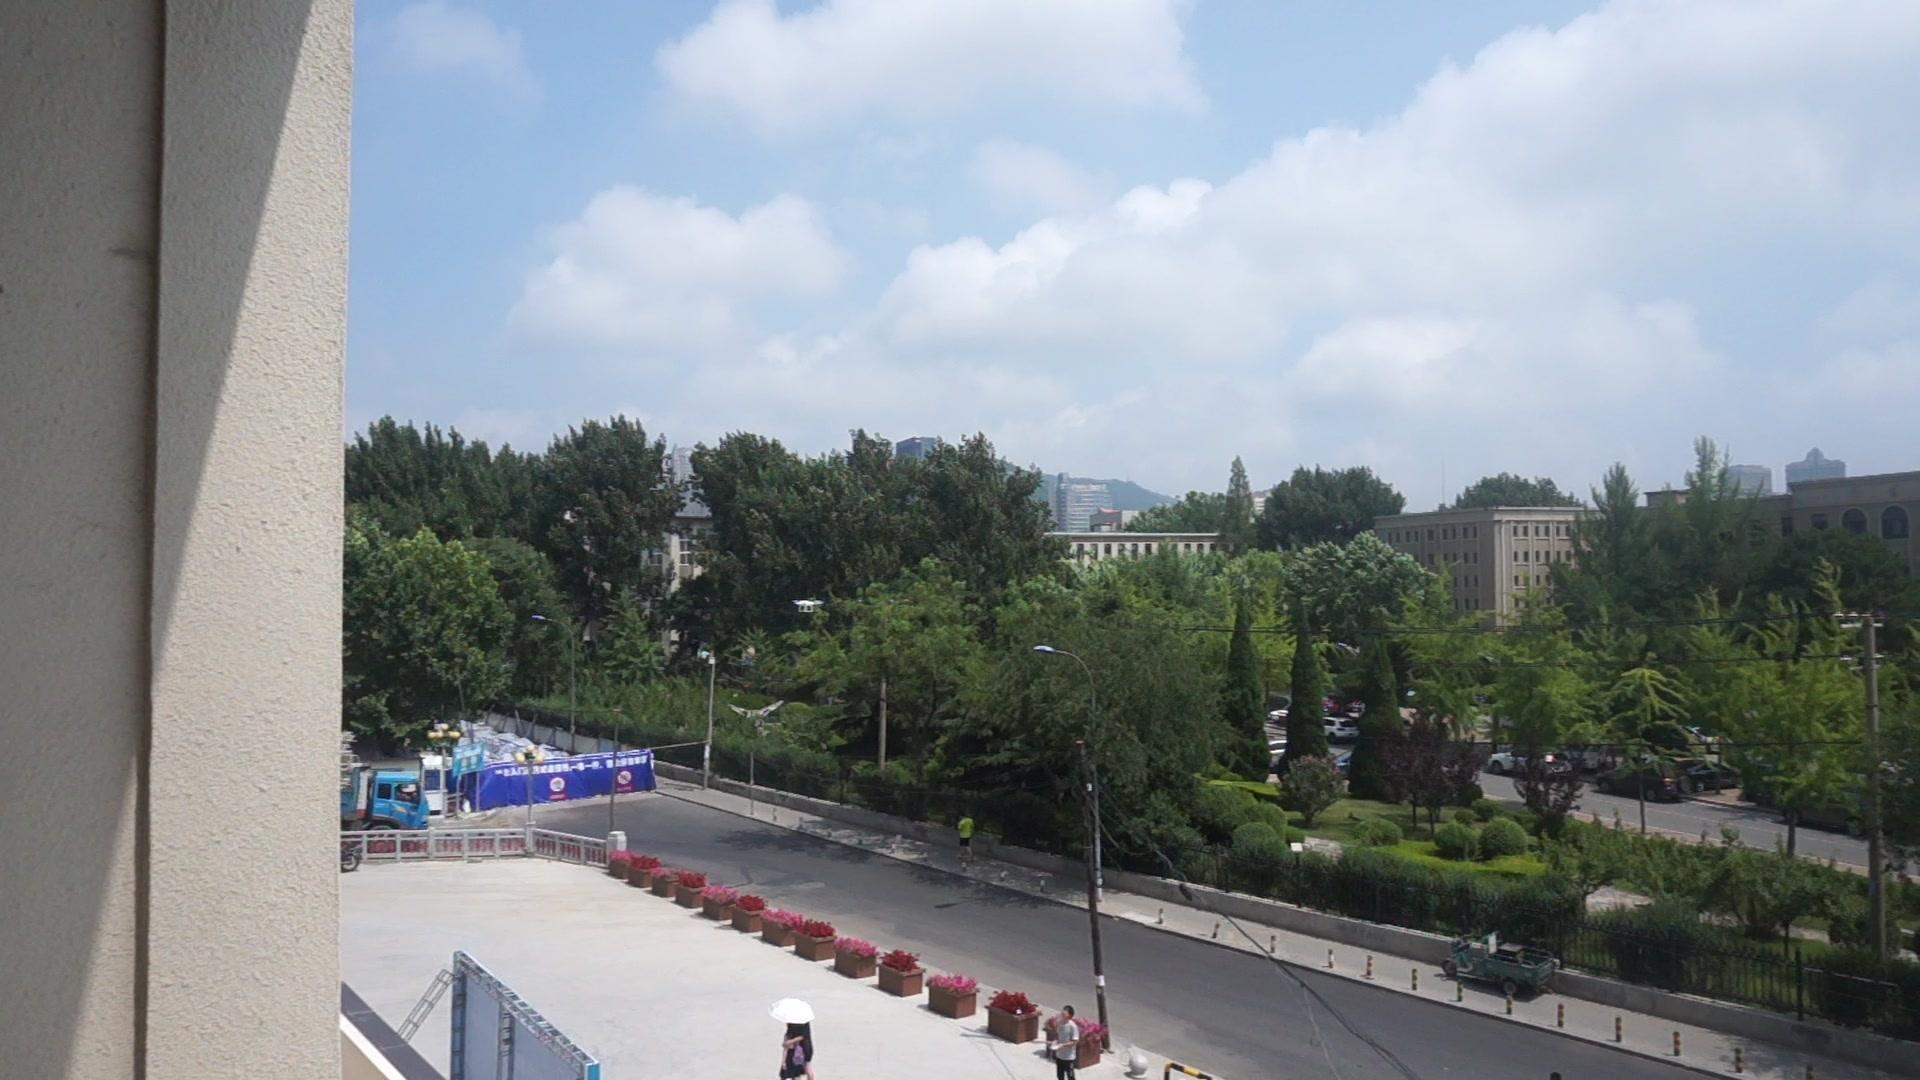UAV: (793, 600, 825, 615)
